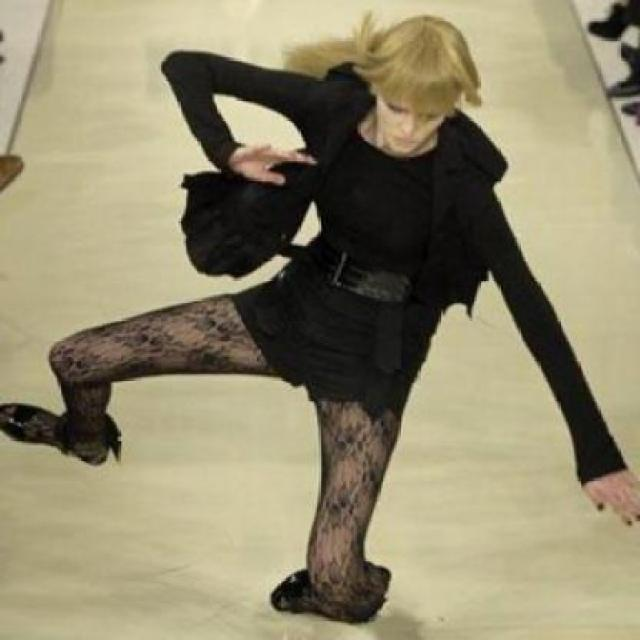fall: (0, 14, 638, 628)
